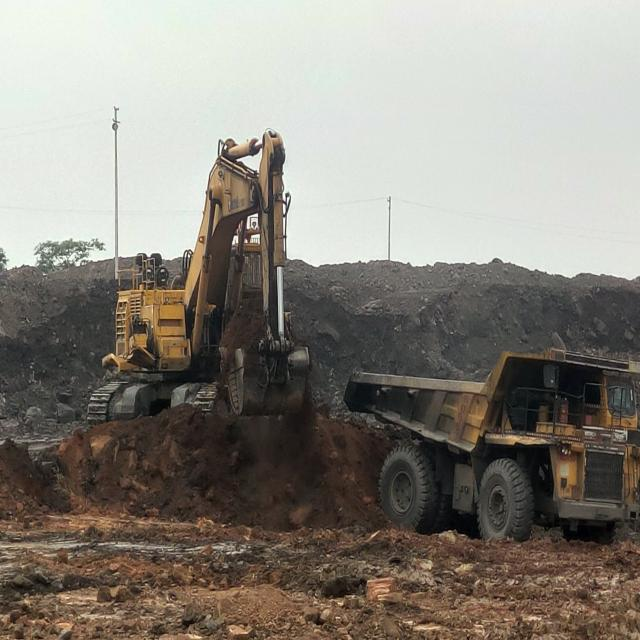dump_truck: (343, 353, 640, 544)
excavator: (86, 130, 304, 430)
